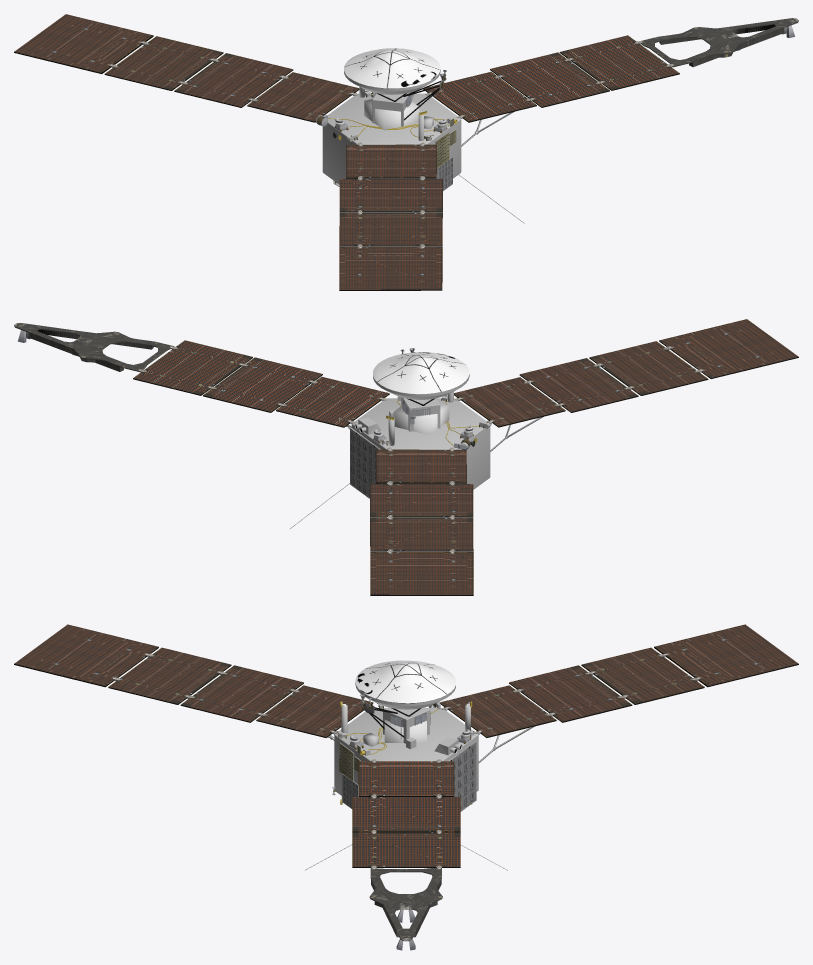
The model's file is juno.dae.
3 views of the same model, one above another, from view 1: azimuth 30°, elevation 25°; view 2: azimuth 150°, elevation 25°; view 3: azimuth 270°, elevation 25° (orthographic). The views are drawn at different scales.
Parts seen in each view (by area): view 1: shiny_panels, silver_foil, dish_top_2, solar_panels, black_krinkle, tex_01, _root, dish_bottom; view 2: shiny_panels, silver_foil, dish_top_2, tex_01, solar_panels, black_krinkle, _root; view 3: shiny_panels, silver_foil, tex_01, dish_top_2, solar_panels, black_krinkle, _root.
Part boxes in pixels (<box>): shiny_panels: <box>14,14,679,289</box>; silver_foil: <box>322,87,461,186</box>; dish_top_2: <box>344,48,440,88</box>; solar_panels: <box>639,18,798,67</box>; black_krinkle: <box>14,36,679,290</box>; tex_01: <box>110,25,794,247</box>; _root: <box>364,98,419,130</box>; dish_bottom: <box>344,69,440,94</box>; shiny_panels: <box>133,319,798,594</box>; silver_foil: <box>351,391,490,489</box>; dish_top_2: <box>373,352,469,393</box>; tex_01: <box>17,330,702,552</box>; solar_panels: <box>14,323,173,371</box>; black_krinkle: <box>133,340,798,595</box>; _root: <box>393,403,449,434</box>; shiny_panels: <box>14,624,798,866</box>; silver_foil: <box>334,704,478,800</box>; tex_01: <box>112,653,699,950</box>; dish_top_2: <box>355,660,455,703</box>; solar_panels: <box>369,868,442,941</box>; black_krinkle: <box>14,647,798,867</box>; _root: <box>384,720,426,742</box>.
Size of the model in its own units: 17.65 by 18.54 by 4.25.
Materials: 9 (6 with a texture image).
